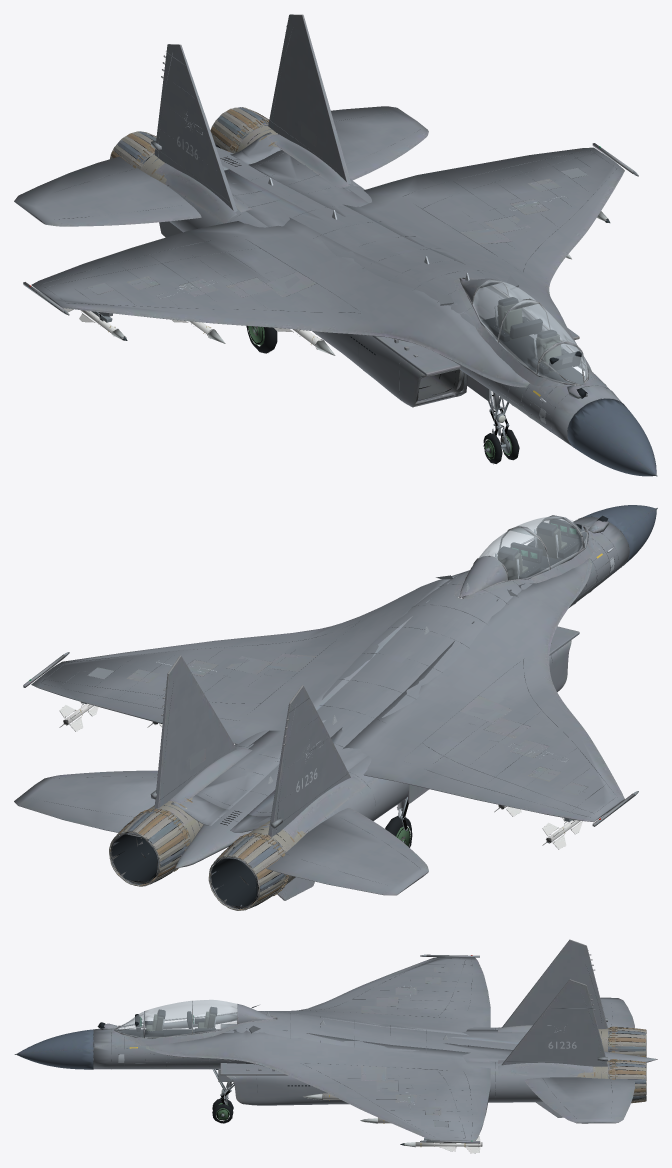
File: j16-preview.glb
3 renders of one model, top to bottom at view 1: azimuth 30°, elevation 25°; view 2: azimuth 150°, elevation 25°; view 3: azimuth 270°, elevation 25°, orthographic. The views are drawn at different scales.
Visible parts, largest first — view 1: J16 | Paint.001 | mobile, J16 | Paint | mobile, J16 | Patch.001 | mobile, J16 | Canopy glass | mobile, J16 | Radome | mobile, J16 | Black.001 | mobile, J16 | Seam.001 | mobile, J16 | Hot steel | mobile, J16 | Rubber | mobile, J16 | Focus duct | mobile, J16 | Hot blue | mobile, J16 | Store white | mobile (+1 smaller); view 2: J16 | Paint.001 | mobile, J16 | Paint | mobile, J16 | Patch.001 | mobile, J16 | Black.001 | mobile, J16 | Canopy glass | mobile, J16 | Hot steel | mobile, J16 | Seam.001 | mobile, J16 | Hot blue | mobile, J16 | Radome | mobile, J16 | Hot bronze | mobile, J16 | Store white | mobile, J16 | Seat | mobile; view 3: J16 | Paint.001 | mobile, J16 | Paint | mobile, J16 | Canopy glass | mobile, J16 | Patch.001 | mobile, J16 | Radome | mobile, J16 | Hot steel | mobile, J16 | Seam.001 | mobile, J16 | Black.001 | mobile, J16 | Hot blue | mobile, J16 | Hot bronze | mobile, J16 | Store white | mobile.
Boxes of the visible parts, x1,y1,x2,y2 form: J16 | Paint.001 | mobile: (14, 14, 624, 387); J16 | Paint | mobile: (155, 132, 621, 447); J16 | Patch.001 | mobile: (23, 26, 638, 437); J16 | Canopy glass | mobile: (473, 280, 588, 384); J16 | Radome | mobile: (567, 398, 656, 476); J16 | Black.001 | mobile: (116, 113, 587, 398); J16 | Seam.001 | mobile: (40, 38, 624, 447); J16 | Hot steel | mobile: (110, 107, 277, 184); J16 | Rubber | mobile: (246, 326, 519, 463); J16 | Focus duct | mobile: (416, 368, 464, 402); J16 | Hot blue | mobile: (112, 107, 281, 222); J16 | Store white | mobile: (63, 308, 321, 346); J16 | Paint.001 | mobile: (14, 558, 624, 900); J16 | Paint | mobile: (170, 517, 629, 868); J16 | Patch.001 | mobile: (23, 515, 638, 828); J16 | Black.001 | mobile: (111, 515, 608, 908); J16 | Canopy glass | mobile: (478, 516, 588, 579); J16 | Hot steel | mobile: (109, 797, 306, 910); J16 | Seam.001 | mobile: (41, 516, 629, 878); J16 | Hot blue | mobile: (110, 795, 308, 909); J16 | Radome | mobile: (581, 505, 656, 563); J16 | Hot bronze | mobile: (110, 808, 289, 909); J16 | Store white | mobile: (59, 701, 582, 849); J16 | Seat | mobile: (497, 528, 561, 580); J16 | Paint.001 | mobile: (141, 939, 634, 1140); J16 | Paint | mobile: (93, 1004, 657, 1105); J16 | Canopy glass | mobile: (115, 1000, 237, 1037); J16 | Patch.001 | mobile: (100, 954, 607, 1143); J16 | Radome | mobile: (17, 1029, 93, 1069); J16 | Hot steel | mobile: (576, 1027, 646, 1103); J16 | Seam.001 | mobile: (93, 950, 612, 1145); J16 | Black.001 | mobile: (97, 1007, 645, 1086); J16 | Hot blue | mobile: (601, 1027, 645, 1099); J16 | Hot bronze | mobile: (608, 1026, 645, 1102); J16 | Store white | mobile: (323, 1093, 481, 1153).
Size of the model in its own units: 14.69 by 5.92 by 21.45.
Materials: 32 (15 with a texture image).
